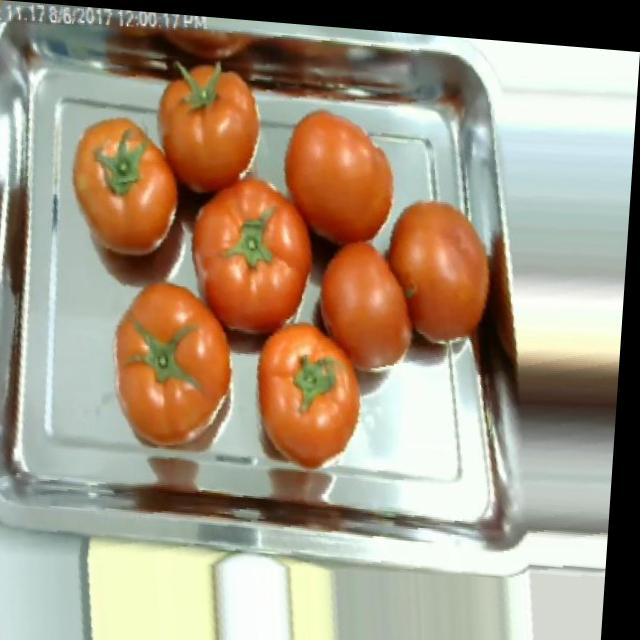kirmizi: (262, 98, 474, 411)
